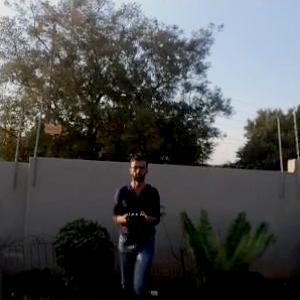follow: (107, 151, 165, 299)
